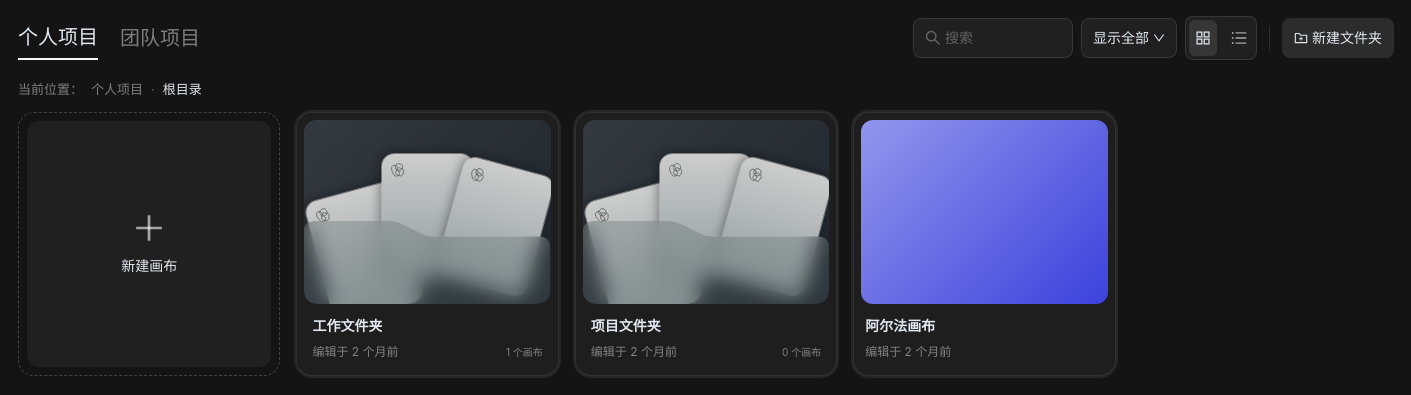
Test: WorkspacePage › 搜索防抖过滤（全局，跨文件夹）
Type "阿尔法" into the field labelled "搜索" at (1003, 38), box [945,28,1061,48]
Wait 300 ms
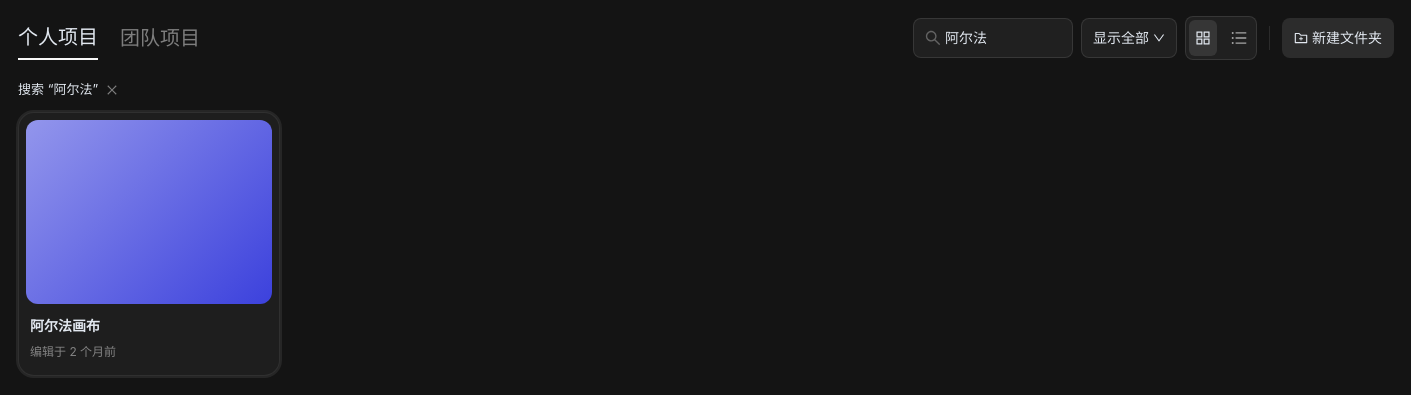
Check: the button with test id "canvas-card-c1" is shown, box [18,112,280,376]
Check: the button with test id "folder-card-f2" is gone
Check: the list item with test id "create-canvas-card" is gone
